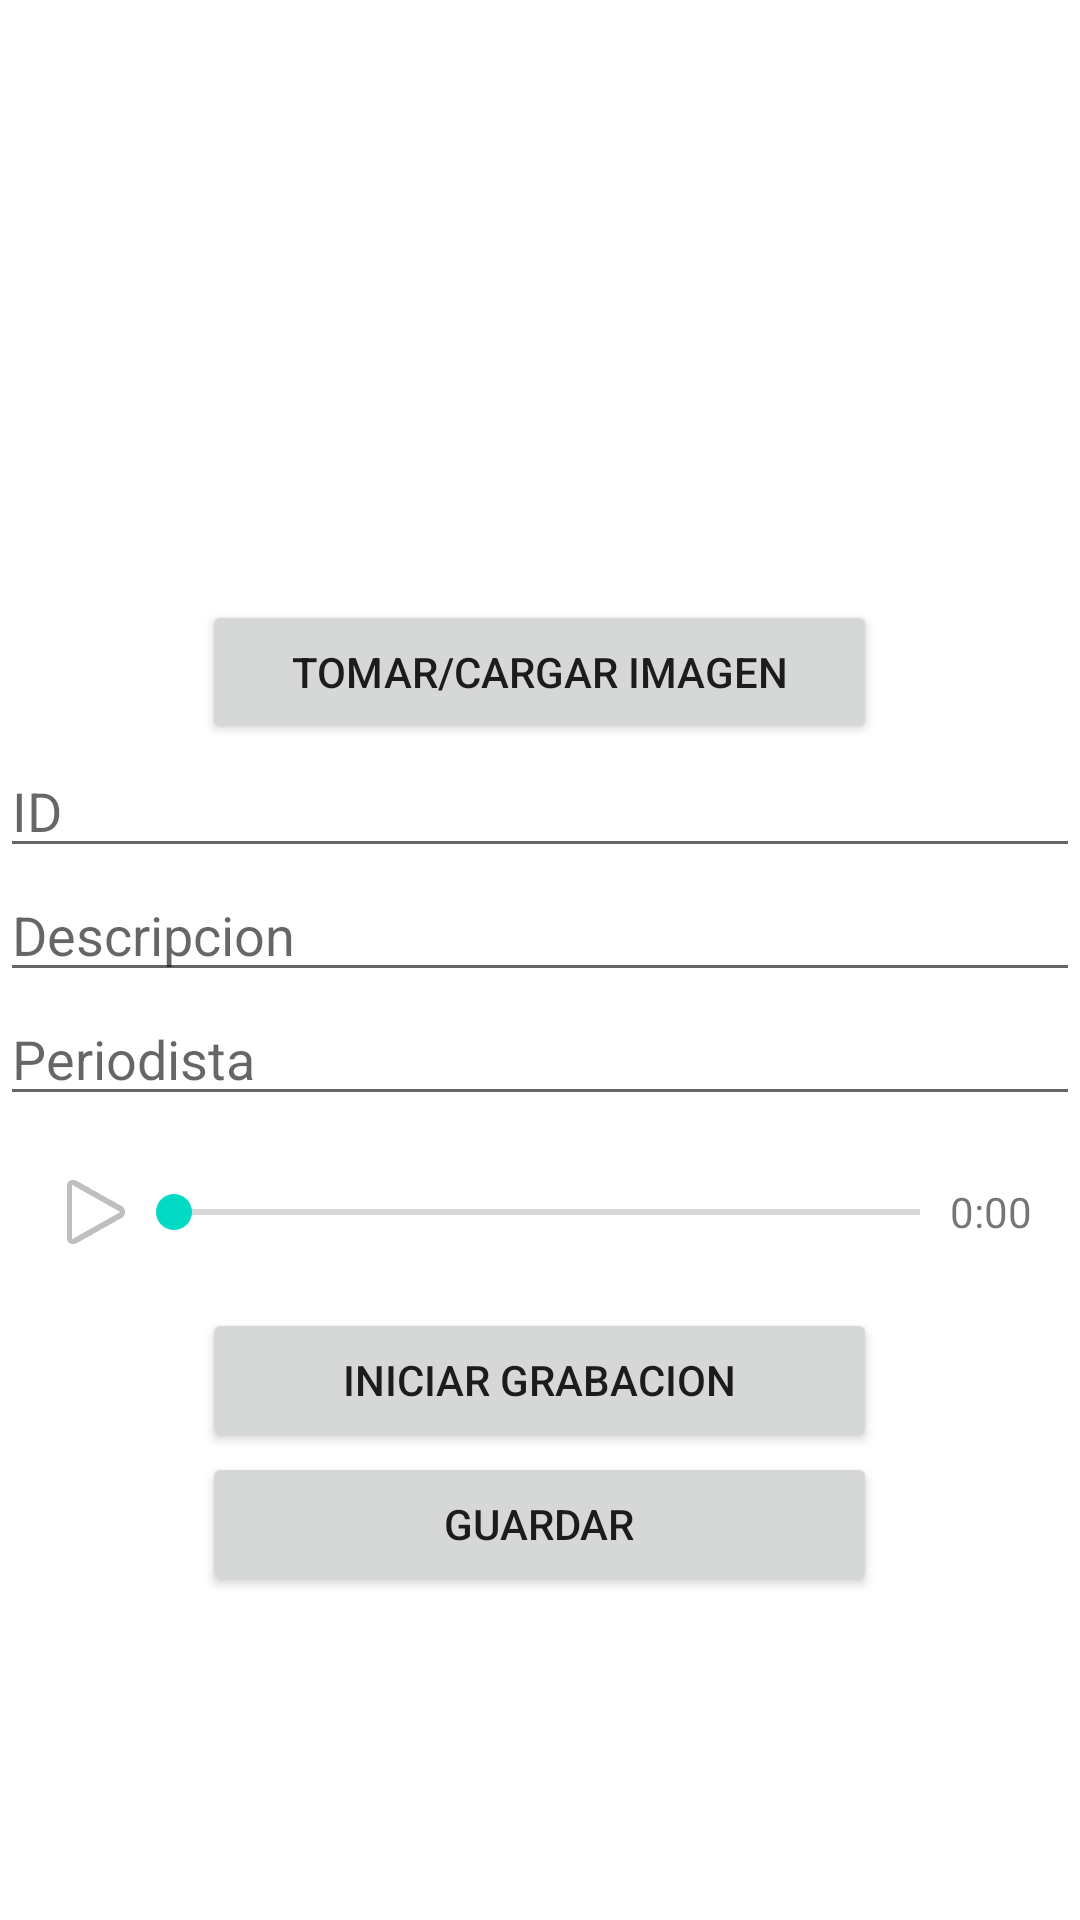

Icon bounding boxes for this 1080w x 1920h phone screenshot, format box=[x1, y1, x2, y2]:
play: box=[67, 1180, 125, 1244]
